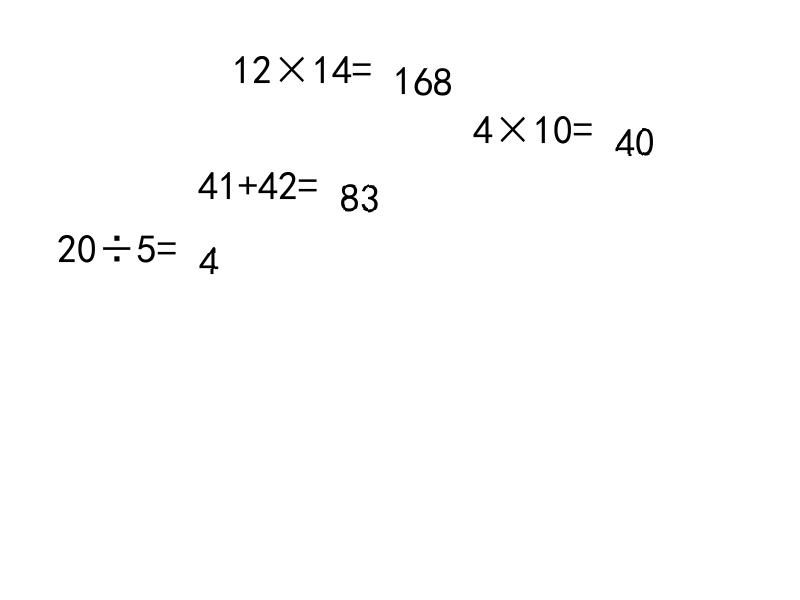+: (238, 165, 258, 194)
0: (77, 228, 97, 258), (553, 109, 573, 138), (623, 109, 643, 138)
1: (232, 49, 252, 78), (312, 49, 332, 78), (382, 49, 402, 78), (533, 109, 553, 138), (218, 165, 238, 194)
2: (57, 228, 77, 258), (252, 49, 272, 78), (278, 165, 298, 194)
3: (348, 165, 368, 194)
4: (187, 228, 207, 258), (332, 49, 352, 78), (473, 109, 493, 138), (603, 109, 623, 138), (198, 165, 218, 194), (258, 165, 278, 194)
5: (137, 228, 157, 258)
6: (402, 49, 422, 78)
8: (422, 49, 442, 78), (328, 165, 348, 194)
=: (157, 228, 177, 258), (352, 49, 372, 78), (573, 109, 593, 138), (298, 165, 318, 194)
×: (272, 49, 312, 78), (493, 109, 533, 138)
÷: (97, 228, 137, 258)
